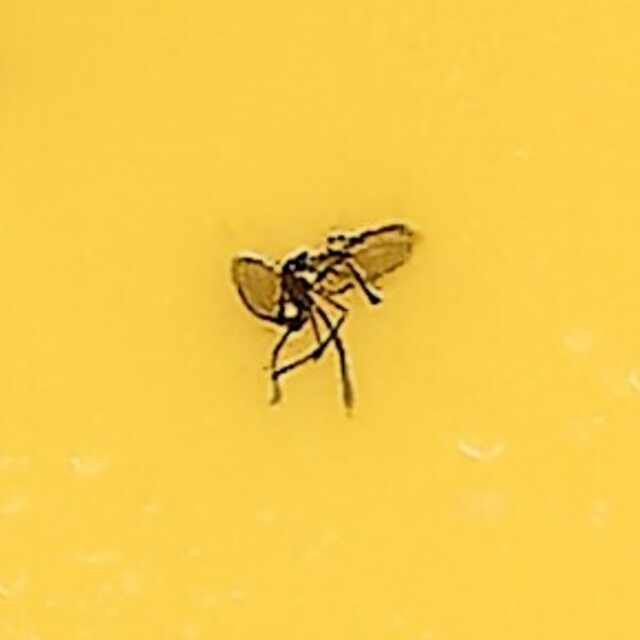Nematocera: (221, 222, 419, 418)
